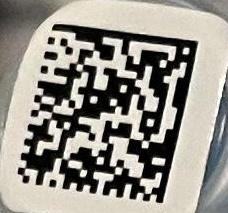datamatrix: (18, 24, 199, 205)
